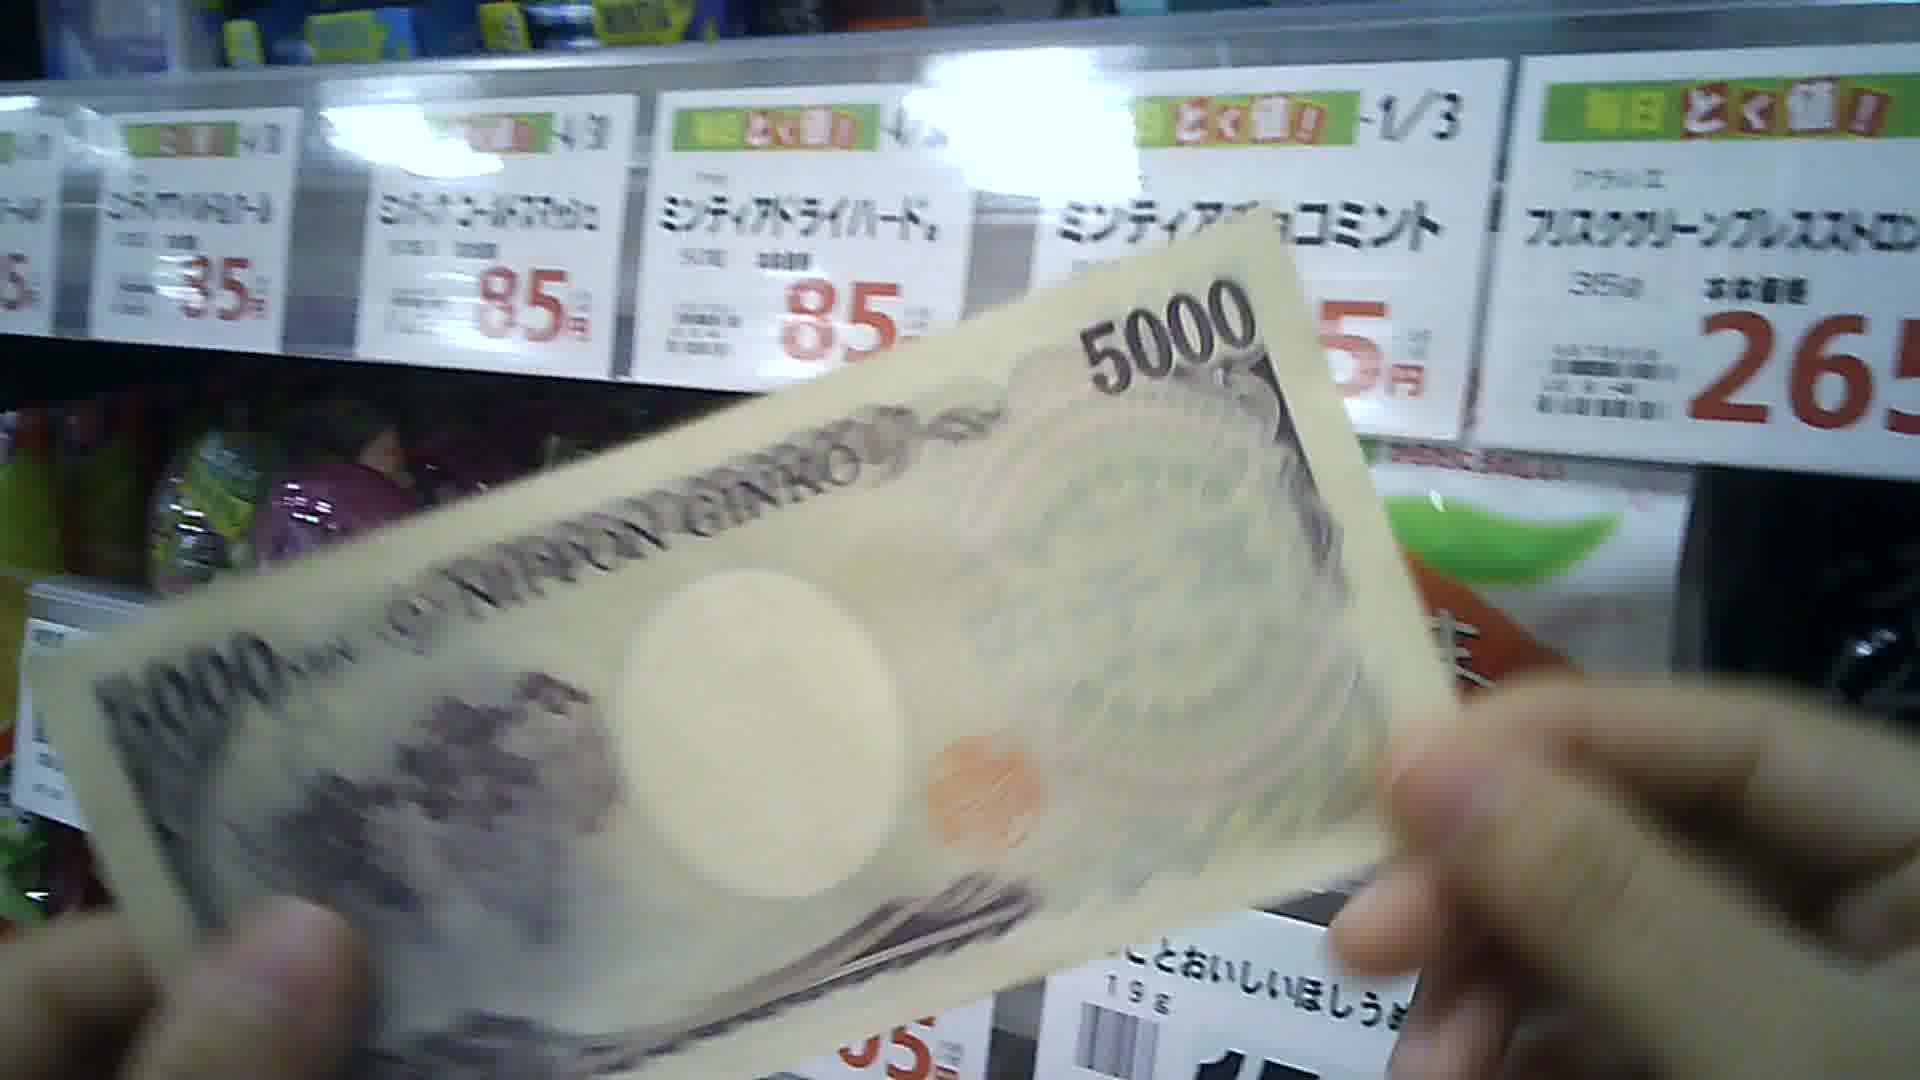5,000 Yen: (82, 237, 1369, 1073)
